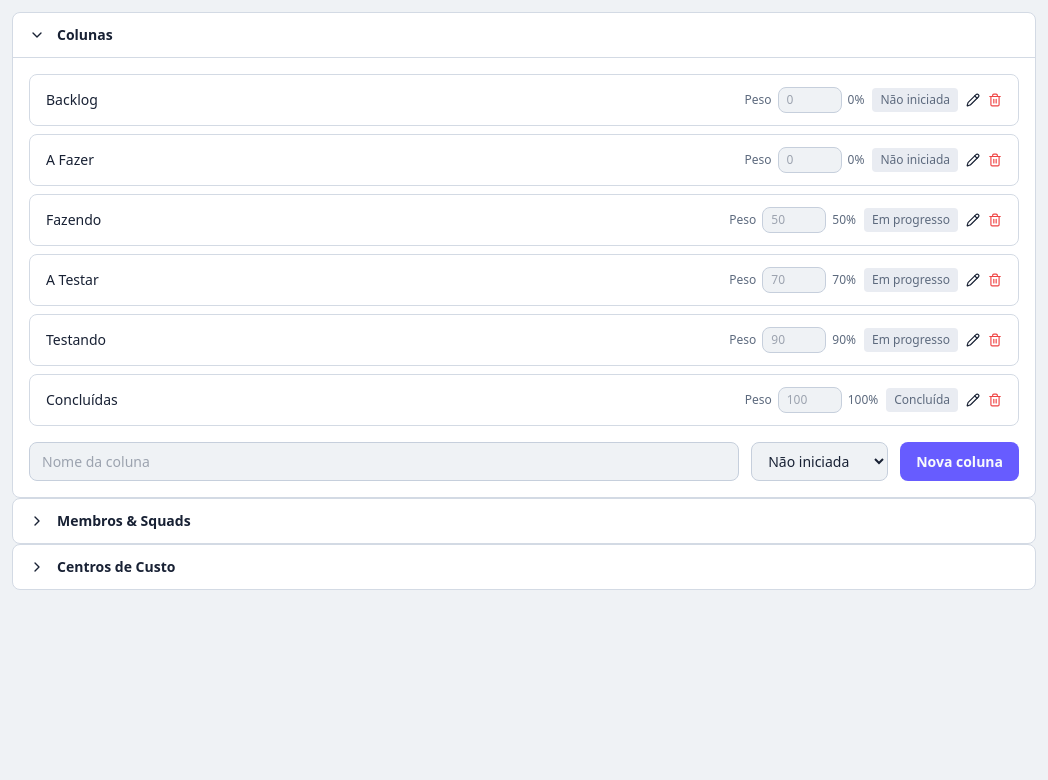
Test: peso de avanço nas configurações do projeto › o indicador reflete o novo peso sem recarregar a aplicação
This screenshot has width=1048, height=780.
Expected: the text "70%" is shown, [832, 272, 856, 288]
In the number field named "Peso A Testar": (794, 280) [762, 267, 826, 293], type "95"
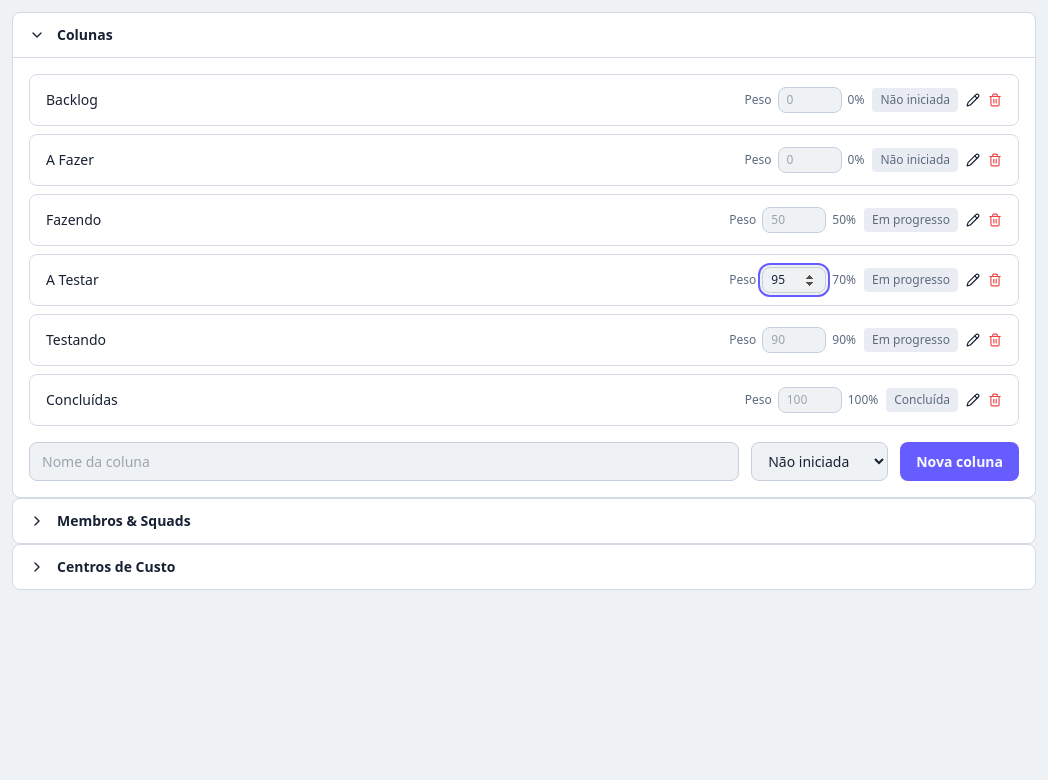
Press Tab
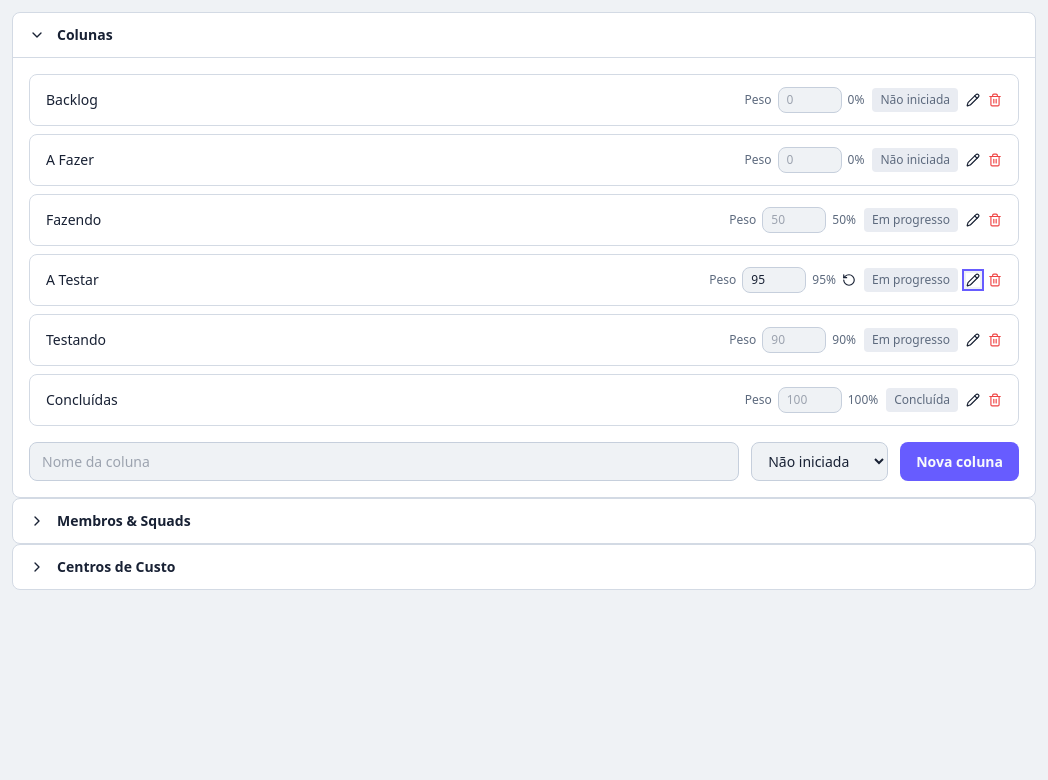
Expected: the text "95%" is shown, [812, 272, 836, 288]
Expected: the button named "Restaurar peso derivado A Testar" is shown, [842, 273, 856, 287]
